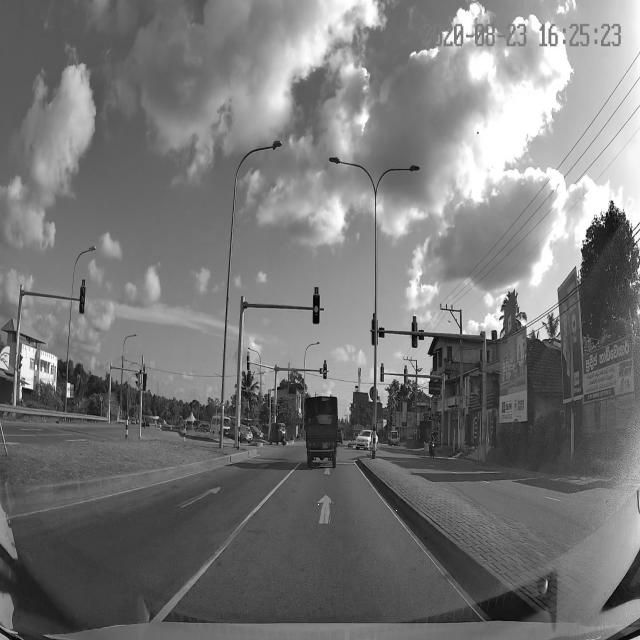forward: (229, 483, 427, 549)
